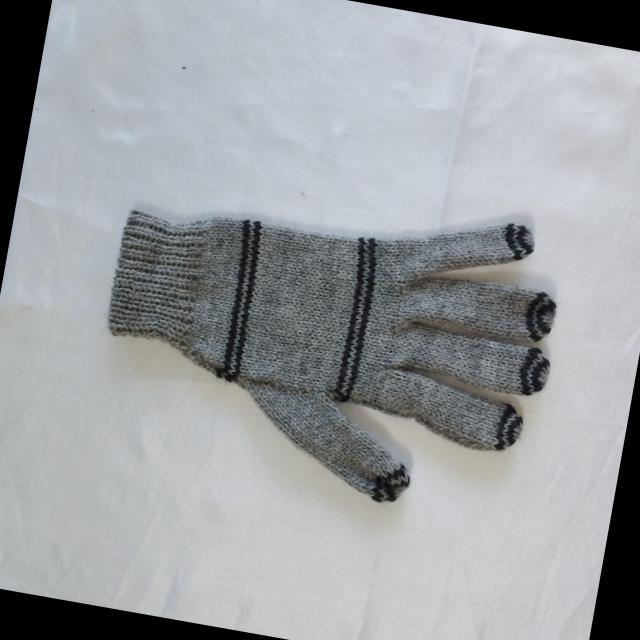Guante: (81, 154, 574, 529)
